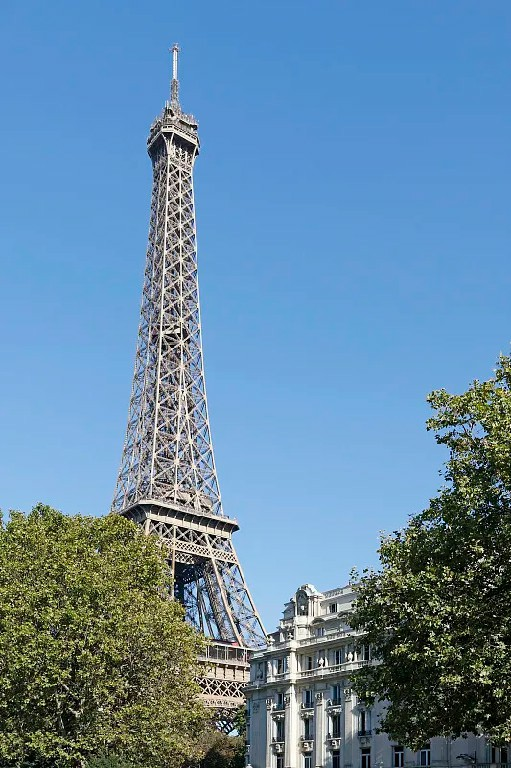Eiffel: (105, 43, 275, 748)
